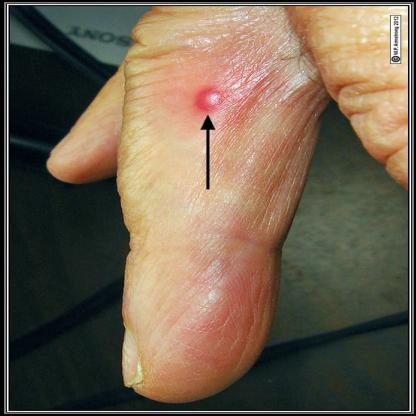Fire ant: (184, 80, 239, 116)
